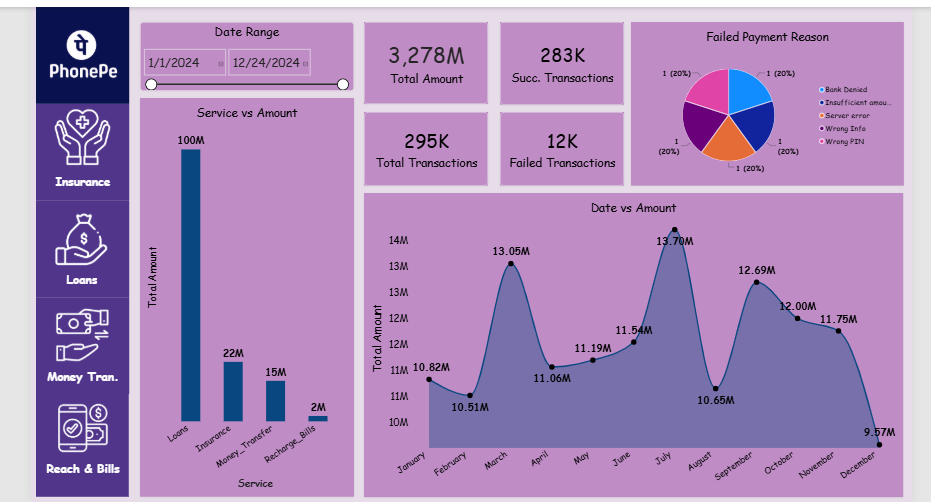

What the dashboard file says about the page in this screenshot:
{"tool":"powerbi","page":{"name":"Home","canvas":[1920,1080],"ordinal":0},"visuals":[{"type":"shape","box":[9.9,0,203,210.9],"z":0,"group":"g3"},{"type":"slicer","title":"Date Range","fields":{"Values":["All_Transactions.Date"]},"box":[238,32,466,150],"z":0},{"type":"shape","box":[10,840,202,226],"z":0,"group":"g2"},{"type":"cardVisual","fields":{"Data":["Sum(All_Transactions.Amount)"]},"box":[726,32,270,178],"z":1000},{"type":"shape","box":[9.9,210.9,203,210.9],"z":1000,"group":"g4"},{"type":"image","box":[35.5,855.3,151.8,122.2],"z":1000,"group":"g2"},{"type":"cardVisual","fields":{"Data":["Count(All_Transactions.Transaction_ID)"]},"box":[726,228,270,160],"z":2000},{"type":"shape","box":[9.9,421.8,203,210.9],"z":2000,"group":"g5"},{"type":"shape","box":[17.8,977.5,187.2,51.2],"z":2000,"group":"g2"},{"type":"group","id":"g1","title":"Group 4","box":[9.9,0,203,841.5],"z":3000,"group":"g2"},{"type":"cardVisual","fields":{"Data":["Count(All_Transactions.Transaction_ID)"]},"box":[1022,32,270,180],"z":3000},{"type":"shape","box":[9.9,632.6,203,208.9],"z":3000,"group":"g1"},{"type":"cardVisual","fields":{"Data":["Count(All_Transactions.Transaction_ID)"]},"box":[1021.7,228.3,270,160],"z":4000},{"type":"image","box":[33.5,15.8,157.7,181.3],"z":5000,"group":"g3"},{"type":"pieChart","title":"Failed Payment Reason","fields":{"Category":["All_Transactions.Reason"],"Y":["CountNonNull(All_Transactions.Transaction_ID)"]},"box":[1306,32,594,356],"z":5000},{"type":"image","box":[25.7,210.9,171.5,143.9],"z":6000,"group":"g4"},{"type":"lineChart","title":"Date vs Amount","fields":{"Category":["All_Transactions.Date.Variation.Date Hierarchy.Month"],"Y":["Sum(All_Transactions.Amount)"]},"box":[726,404,1174,662],"z":6000},{"type":"columnChart","title":"Service vs Amount","fields":{"Category":["All_Transactions.Service"],"Y":["Sum(All_Transactions.Amount)"]},"box":[238,198,466,868],"z":7000},{"type":"image","box":[31.6,441.5,157.7,124.2],"z":7000,"group":"g5"},{"type":"group","id":"g2","title":"Group 5","box":[9.9,0,203,1066],"z":8000},{"type":"image","box":[27.6,650.4,167.5,126.1],"z":8000,"group":"g1"},{"type":"actionButton","box":[3.3,210,213.3,193.3],"z":9000},{"type":"shape","box":[37.5,335,147.8,86.7],"z":10000,"group":"g4"},{"type":"actionButton","box":[0,420,212,210],"z":10000},{"type":"shape","box":[35.5,565.6,147.8,51.2],"z":11000,"group":"g5"},{"type":"actionButton","box":[0,856,212,210],"z":11000},{"type":"shape","box":[17.8,776.5,187.2,51.2],"z":12000,"group":"g1"},{"type":"group","id":"g3","title":"Group 1","box":[9.9,0,203,210.9],"z":21001,"group":"g4"},{"type":"group","id":"g4","title":"Group 2","box":[9.9,0,203,421.8],"z":21002,"group":"g5"},{"type":"group","id":"g5","title":"Group 3","box":[9.9,0,203,632.6],"z":21003,"group":"g1"}]}

Visuals, with their boxes in screenshot pixels (x1, y1, x2, y2):
shape: x1=34, y1=5, x2=127, y2=101
"Date Range" slicer: x1=138, y1=20, x2=352, y2=88
shape: x1=34, y1=390, x2=126, y2=493
cardVisual - Sum(All_Transactions.Amount): x1=362, y1=20, x2=486, y2=101
shape: x1=34, y1=101, x2=127, y2=198
image: x1=45, y1=397, x2=115, y2=453
cardVisual - Count(All_Transactions.Transaction_ID): x1=362, y1=109, x2=486, y2=183
shape: x1=34, y1=198, x2=127, y2=295
shape: x1=37, y1=453, x2=123, y2=476
"Group 4" group: x1=34, y1=5, x2=127, y2=390
cardVisual - Count(All_Transactions.Transaction_ID): x1=497, y1=20, x2=621, y2=102
shape: x1=34, y1=295, x2=127, y2=390
cardVisual - Count(All_Transactions.Transaction_ID): x1=497, y1=109, x2=621, y2=183
image: x1=44, y1=12, x2=117, y2=95
"Failed Payment Reason" pieChart: x1=628, y1=20, x2=900, y2=183
image: x1=41, y1=101, x2=119, y2=167
"Date vs Amount" lineChart: x1=362, y1=190, x2=900, y2=493
"Service vs Amount" columnChart: x1=138, y1=96, x2=352, y2=493
image: x1=44, y1=207, x2=116, y2=264
"Group 5" group: x1=34, y1=5, x2=127, y2=493
image: x1=42, y1=303, x2=118, y2=361
actionButton: x1=31, y1=101, x2=128, y2=190
shape: x1=46, y1=158, x2=114, y2=198
actionButton: x1=29, y1=197, x2=126, y2=294
shape: x1=45, y1=264, x2=113, y2=288
actionButton: x1=29, y1=397, x2=126, y2=493
shape: x1=37, y1=361, x2=123, y2=384
"Group 1" group: x1=34, y1=5, x2=127, y2=101
"Group 2" group: x1=34, y1=5, x2=127, y2=198
"Group 3" group: x1=34, y1=5, x2=127, y2=295
